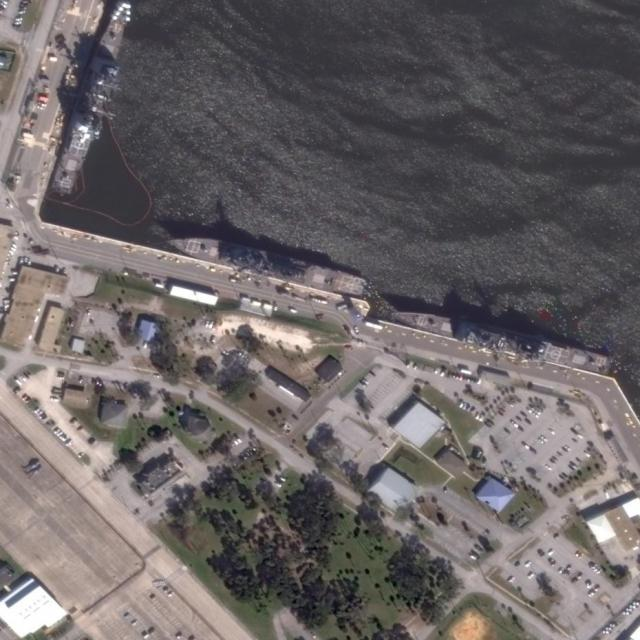Cruiser: (50, 1, 138, 198), (392, 304, 609, 373)
Destroyer: (164, 230, 365, 295)
